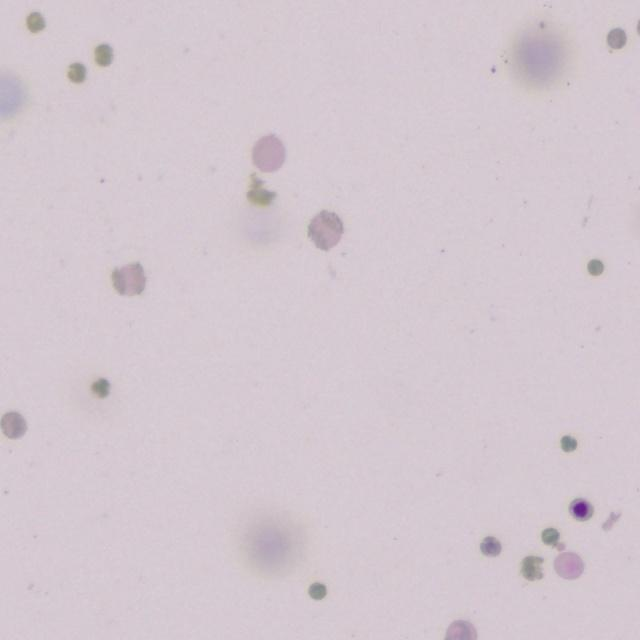intermediate: (308, 210, 343, 250), (252, 134, 285, 172), (112, 263, 146, 295), (554, 551, 583, 579), (444, 620, 476, 639), (480, 536, 501, 556), (570, 500, 591, 519)
non_viable: (0, 411, 26, 438), (25, 11, 45, 33), (94, 43, 113, 66), (607, 27, 626, 49), (67, 62, 86, 83), (91, 378, 110, 397), (540, 528, 559, 546), (308, 582, 326, 600), (587, 258, 604, 276), (560, 435, 577, 452)
